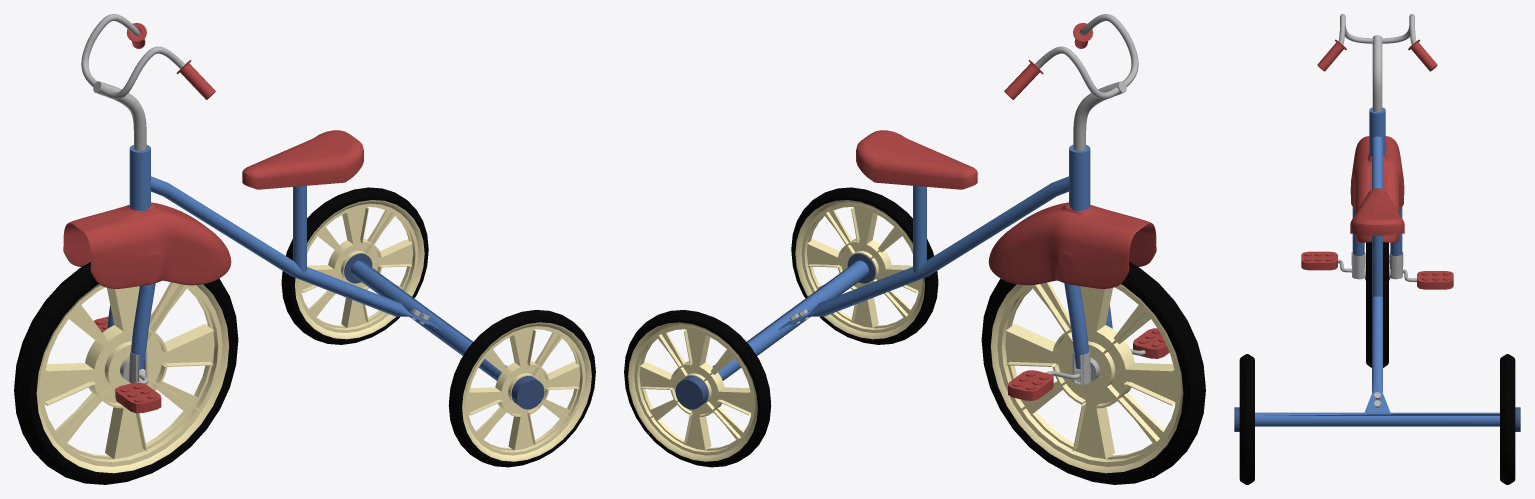
The model's file is childrens_bike.glb.
3 renders of one model, left to right at view 1: azimuth 30°, elevation 25°; view 2: azimuth 150°, elevation 25°; view 3: azimuth 270°, elevation 25°, orthographic. The views are drawn at different scales.
Visible parts, largest first — view 1: Circle.001_6, Circle_1, Plane.003_16, Plane.002_15, Cylinder.002_3, Cylinder_0, NurbsPath.004_26, Cylinder.004_5, Cylinder.005_7, Cylinder.001_2, Cylinder.003_4, Plane_12 (+2 smaller); view 2: Circle.001_6, Circle_1, Plane.003_16, Plane.002_15, Cylinder.002_3, Cylinder_0, NurbsPath.004_26, Plane_12, Cylinder.004_5, Cylinder.005_7, Cylinder.001_2, Cylinder.003_4 (+2 smaller); view 3: Circle_1, Cylinder_0, Plane.003_16, Plane.002_15, Cylinder.002_3, Circle.001_6, Plane_12, NurbsPath.003_25, Cylinder.010_20, NurbsPath.004_26, Cylinder.003_4, Circle.002_11 (+3 smaller).
Boxes of the visible parts, x1=… form: Circle.001_6: x1=14, y1=262, x2=238, y2=484; Circle_1: x1=281, y1=187, x2=595, y2=467; Plane.003_16: x1=63, y1=202, x2=231, y2=288; Plane.002_15: x1=242, y1=130, x2=363, y2=189; Cylinder.002_3: x1=150, y1=176, x2=429, y2=324; Cylinder_0: x1=351, y1=260, x2=507, y2=380; NurbsPath.004_26: x1=81, y1=14, x2=184, y2=99; Cylinder.004_5: x1=129, y1=145, x2=150, y2=210; Cylinder.005_7: x1=107, y1=283, x2=155, y2=369; Cylinder.001_2: x1=344, y1=253, x2=544, y2=409; Cylinder.003_4: x1=293, y1=185, x2=306, y2=272; Plane_12: x1=93, y1=316, x2=161, y2=413; Circle.001_6: x1=981, y1=262, x2=1205, y2=484; Circle_1: x1=624, y1=187, x2=938, y2=467; Plane.003_16: x1=988, y1=202, x2=1156, y2=288; Plane.002_15: x1=856, y1=130, x2=977, y2=189; Cylinder.002_3: x1=790, y1=176, x2=1069, y2=324; Cylinder_0: x1=712, y1=260, x2=868, y2=380; NurbsPath.004_26: x1=1035, y1=14, x2=1138, y2=99; Plane_12: x1=1008, y1=328, x2=1169, y2=400; Cylinder.004_5: x1=1069, y1=145, x2=1090, y2=210; Cylinder.005_7: x1=1064, y1=283, x2=1112, y2=369; Cylinder.001_2: x1=675, y1=253, x2=875, y2=409; Cylinder.003_4: x1=913, y1=185, x2=926, y2=272; Circle_1: x1=1239, y1=354, x2=1515, y2=484; Cylinder_0: x1=1255, y1=412, x2=1499, y2=426; Plane.003_16: x1=1350, y1=136, x2=1404, y2=242; Plane.002_15: x1=1350, y1=188, x2=1404, y2=235; Cylinder.002_3: x1=1372, y1=136, x2=1382, y2=393; Circle.001_6: x1=1366, y1=242, x2=1388, y2=367; Plane_12: x1=1301, y1=251, x2=1453, y2=289; NurbsPath.003_25: x1=1372, y1=39, x2=1382, y2=112; Cylinder.010_20: x1=1317, y1=39, x2=1437, y2=71; NurbsPath.004_26: x1=1338, y1=14, x2=1416, y2=44; Cylinder.003_4: x1=1372, y1=235, x2=1382, y2=296; Circle.002_11: x1=1351, y1=252, x2=1403, y2=279.
Bounding box in the file's own units: 7.61 × 6.57 × 4.89.
